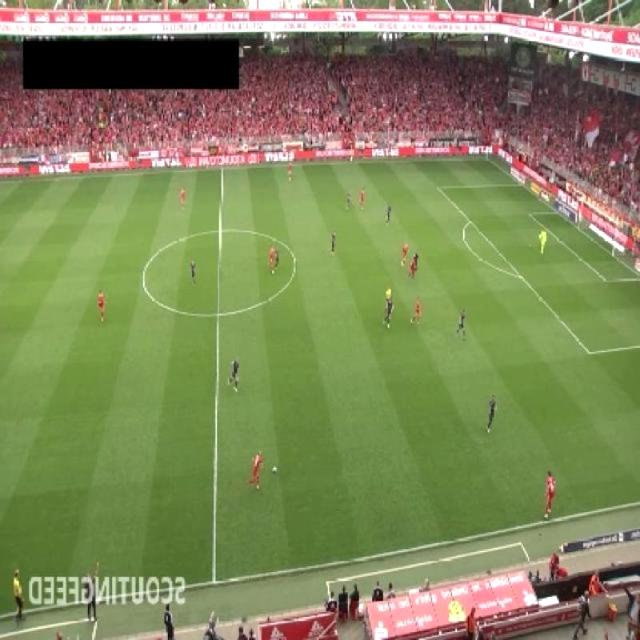bigarea_bottom_inner: (582, 340, 600, 362)
bigarea_top_inner: (431, 178, 446, 194)
bigarea_top_outter: (514, 179, 530, 193)
bottom_arc_area_intersection: (512, 266, 528, 283)
corner: (478, 151, 496, 165)
halfcircle_bottom: (208, 298, 229, 326)
halfcircle_top: (211, 216, 231, 242)
midline_bottom_intersection: (202, 565, 230, 590)
midline_top_intersection: (212, 158, 231, 178)
smallarea_bottom_inner: (598, 269, 616, 289)
smallarea_top_inner: (521, 204, 537, 220)
smallarea_top_outter: (548, 204, 564, 220)
top_arc_area_intersection: (463, 211, 479, 226)
